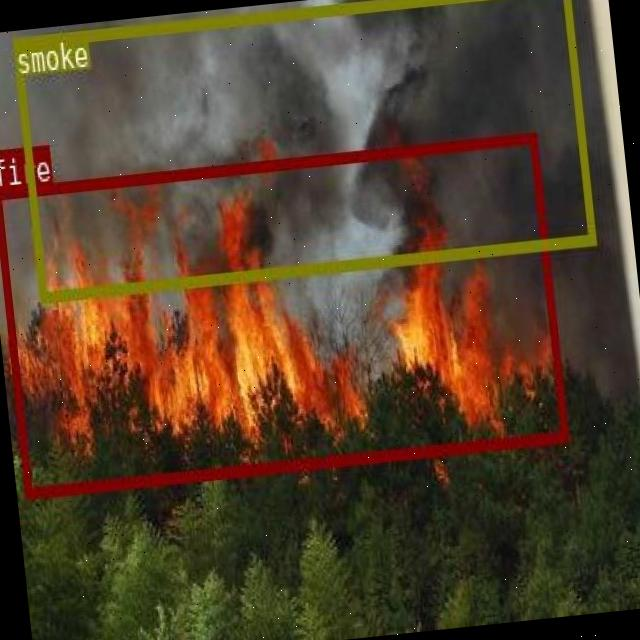fire: (0, 132, 566, 497)
smoke: (10, 0, 593, 301)
